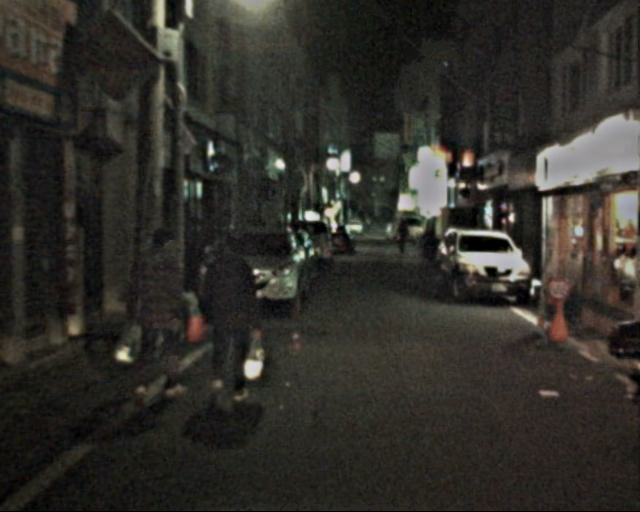person: (195, 233, 267, 406), (126, 225, 195, 400), (396, 220, 412, 254)
